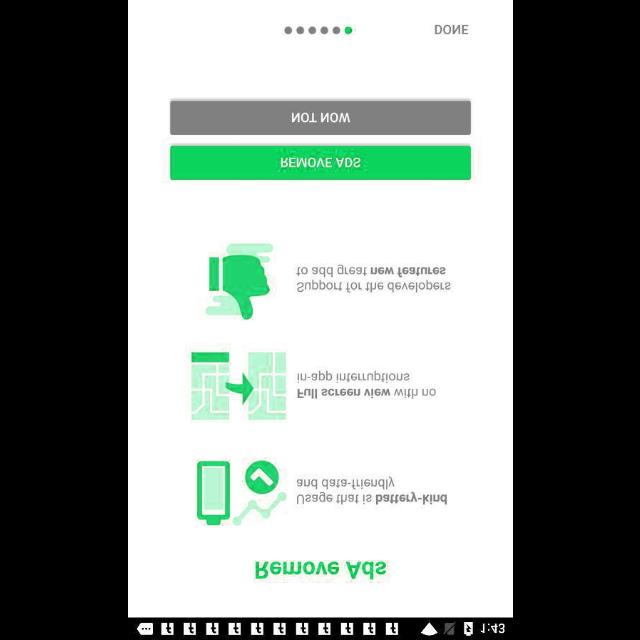image: (190, 352, 286, 421), (196, 458, 286, 526), (205, 242, 273, 320)
pageindicator: (284, 26, 352, 34)
text: (296, 264, 450, 292), (296, 476, 446, 504), (296, 369, 436, 398), (254, 560, 386, 580), (434, 25, 468, 35)
textbutton: (170, 146, 470, 180), (170, 101, 470, 135)
uppertaskbar: (128, 617, 512, 639)
